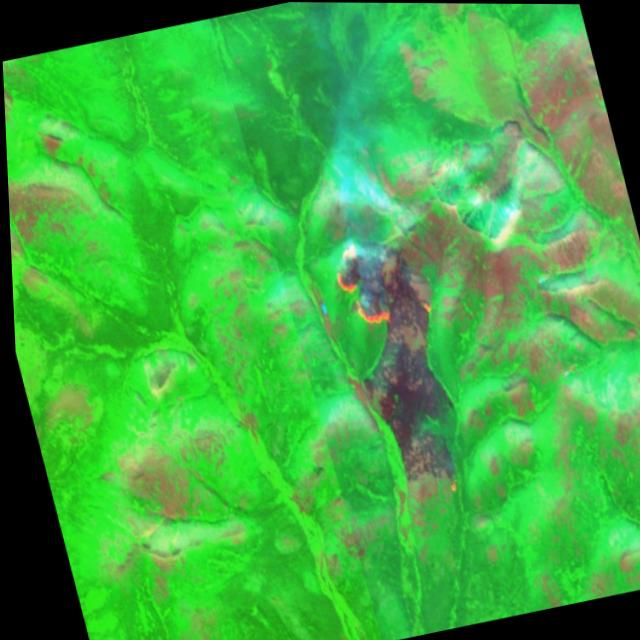fire: (323, 218, 436, 335)
